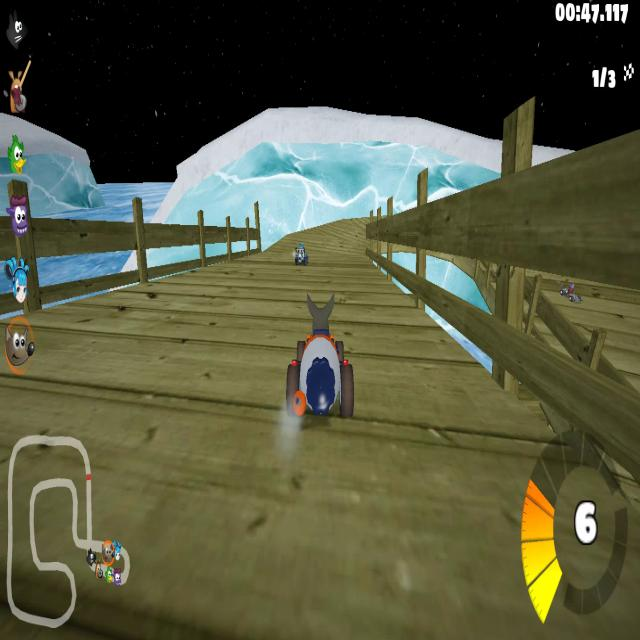enemy_kart: (292, 245, 310, 271)
player_kart: (286, 298, 356, 428)
track: (159, 268, 284, 427), (308, 221, 366, 251)
